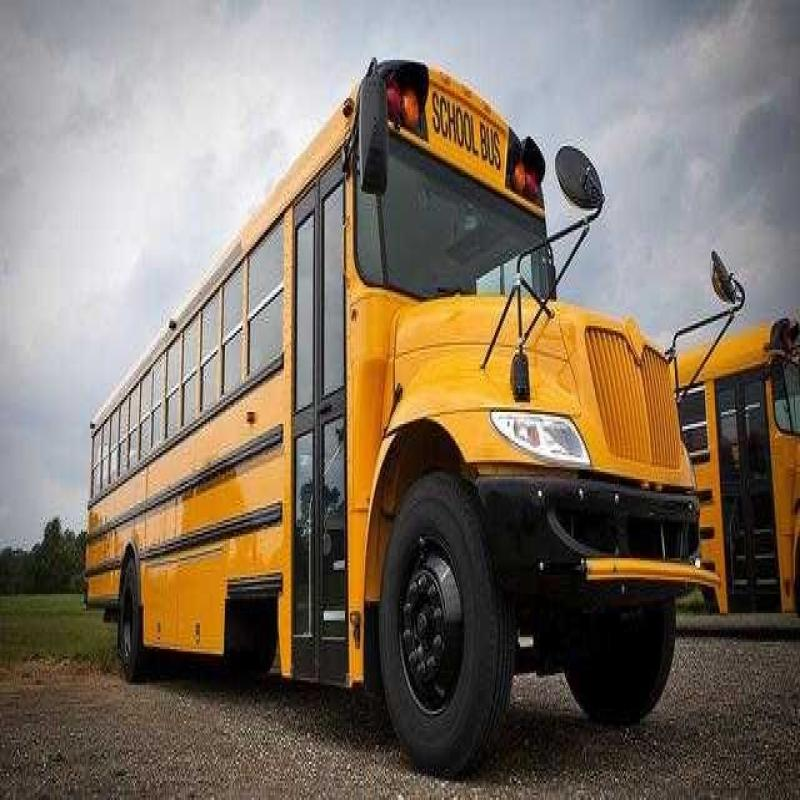bus: (62, 43, 704, 780)
